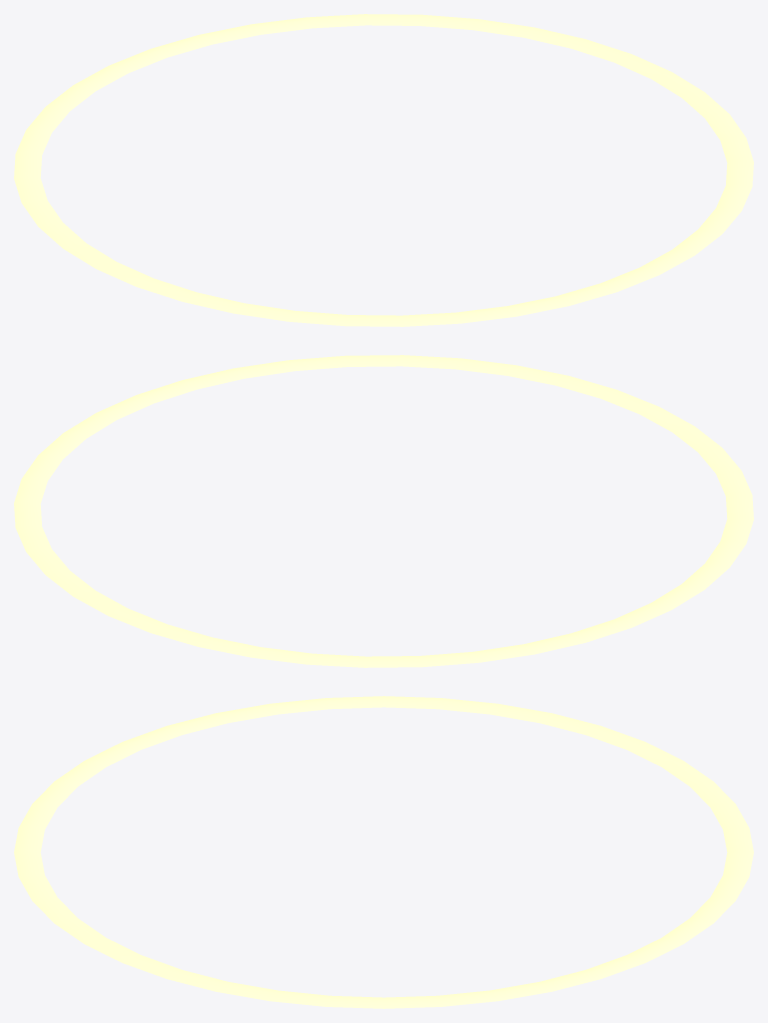
Rendered from Ring.glb.
The picture shows the model from 3 angles, top to bottom: view 1: azimuth 30°, elevation 25°; view 2: azimuth 150°, elevation 25°; view 3: azimuth 270°, elevation 25°; orthographic projection.
Parts seen in each view (by area): view 1: Ring; view 2: Ring; view 3: Ring.
Part boxes in pixels (x1,y1,x2,y2): Ring: [14, 14, 753, 326]; Ring: [14, 355, 753, 667]; Ring: [14, 696, 753, 1008].
Bounding box in the file's own units: 8.3 × 0.03 × 8.3.
